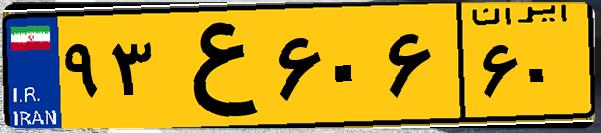0: (330, 28, 385, 110), (525, 38, 570, 115)
3: (110, 28, 158, 98)
6: (270, 28, 330, 110), (385, 28, 445, 110), (475, 38, 525, 113)
9: (57, 26, 110, 100)
ع: (158, 12, 270, 120)
